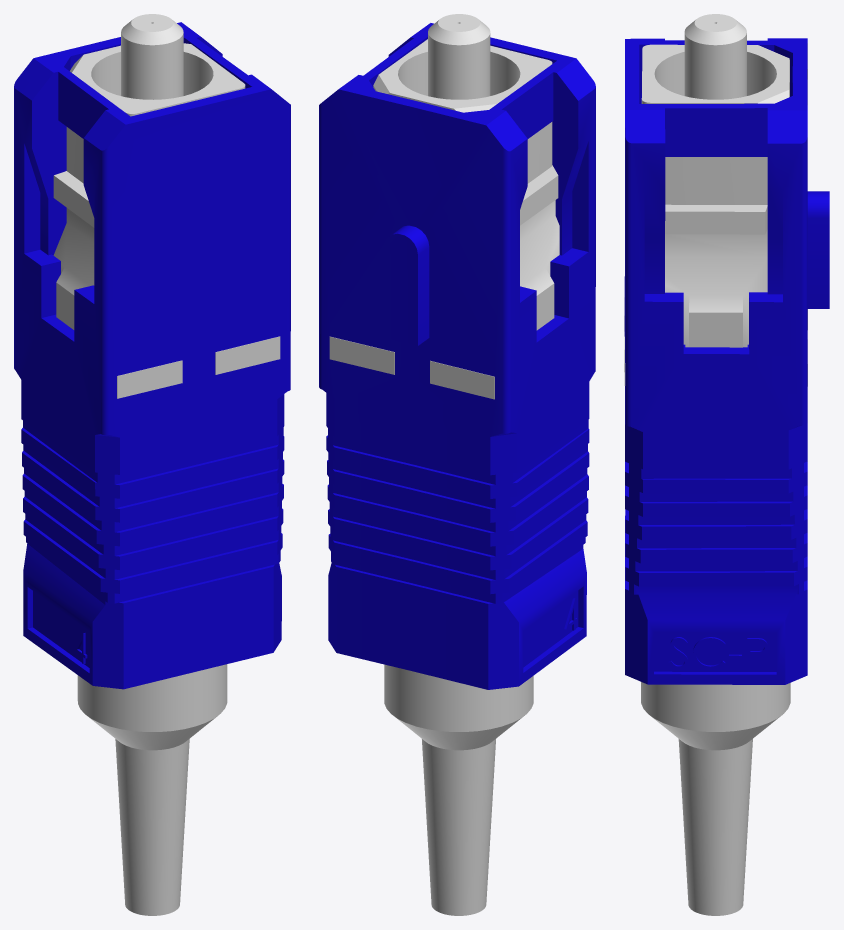
The model's file is SC Connector_HP.fbx.
3 views of the same model, side by side, from view 1: azimuth 30°, elevation 25°; view 2: azimuth 150°, elevation 25°; view 3: azimuth 270°, elevation 25° (orthographic).
Visible parts, largest first — view 1: SC_Connector_HP; view 2: SC_Connector_HP; view 3: SC_Connector_HP.
Part boxes in pixels (x1,y1,x2,y2): SC_Connector_HP: [14, 14, 290, 915]; SC_Connector_HP: [319, 14, 595, 915]; SC_Connector_HP: [624, 14, 829, 915].
Size of the model in its own units: 0.4299 by 1.89 by 0.4003.
